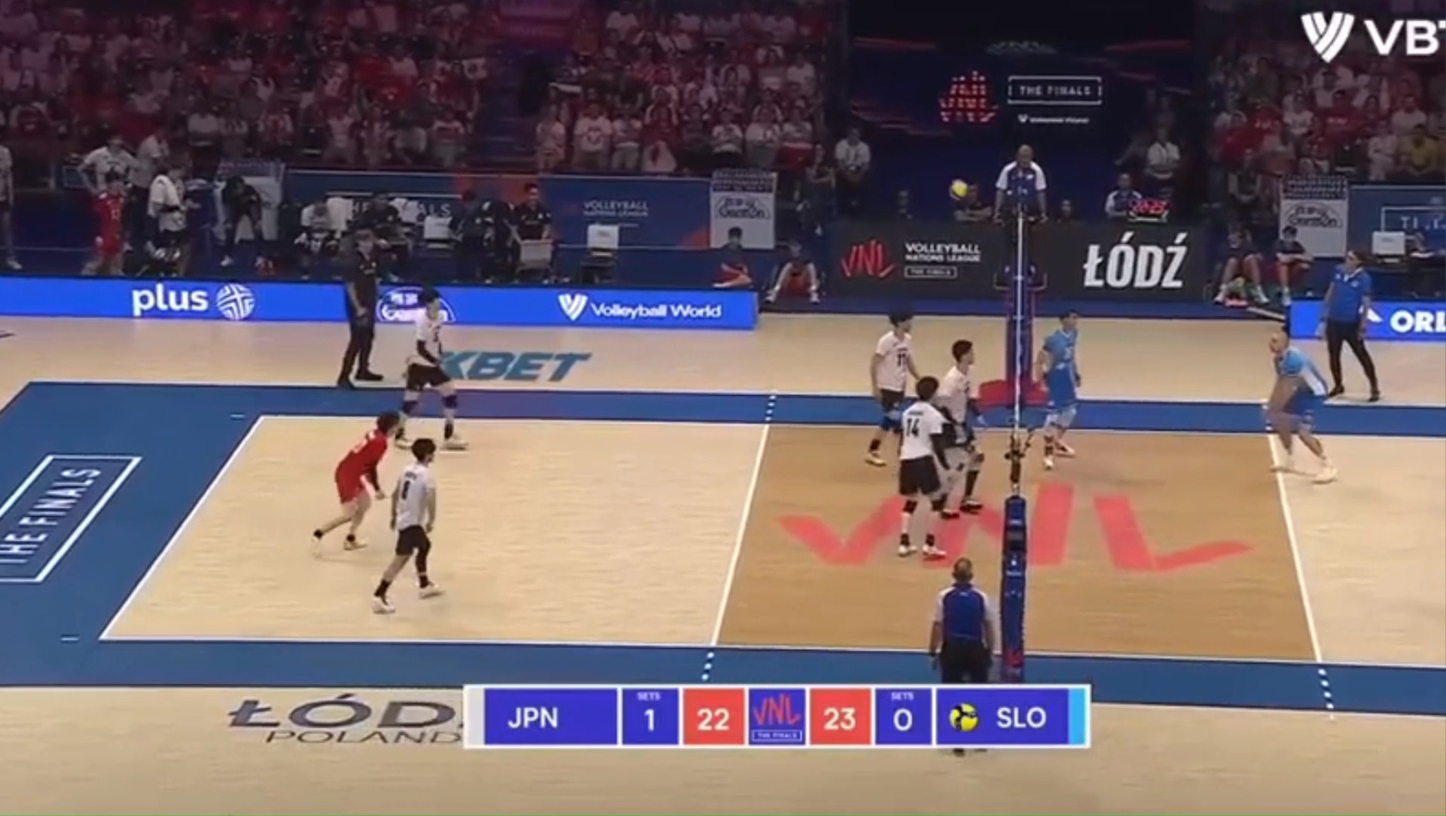ball: (949, 179, 969, 201)
player: (1266, 328, 1335, 482), (1036, 312, 1081, 469)
player 1: (313, 411, 400, 549), (373, 438, 441, 613), (393, 289, 466, 449), (898, 376, 951, 555), (934, 340, 984, 518), (865, 311, 919, 466), (921, 531, 941, 558)
referee: (1320, 250, 1380, 401), (928, 558, 996, 683), (993, 145, 1047, 292), (336, 228, 382, 388)
